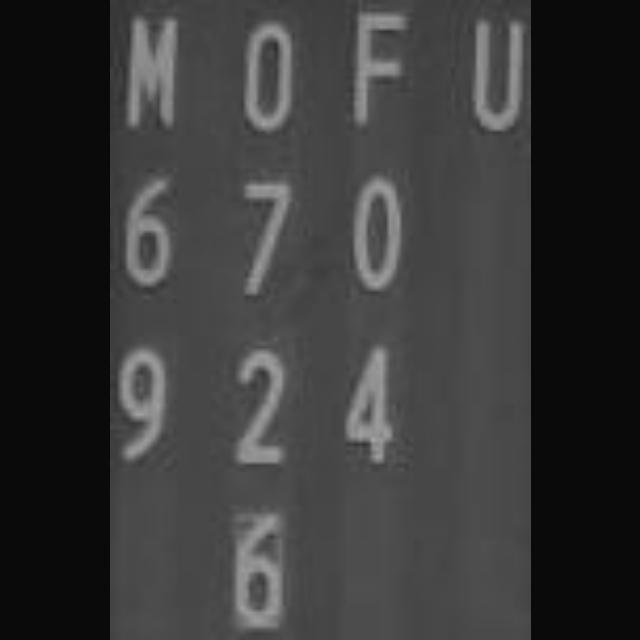0: (336, 156, 406, 302)
2: (215, 328, 298, 478)
4: (322, 320, 414, 478)
6: (110, 164, 194, 310), (228, 501, 298, 635)
7: (223, 160, 301, 310)
9: (109, 332, 189, 476)
f: (336, 0, 422, 146)
m: (109, 1, 193, 138)
o: (228, 0, 308, 144)
u: (454, 0, 530, 144)
